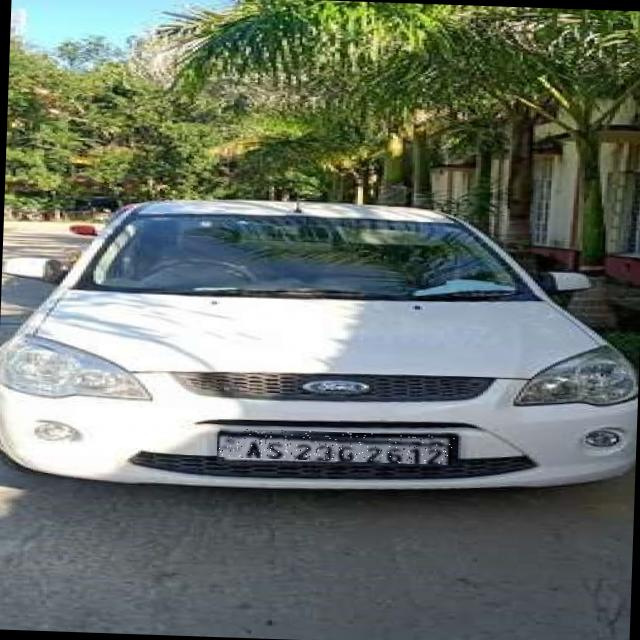Plate: (220, 429, 457, 466)
